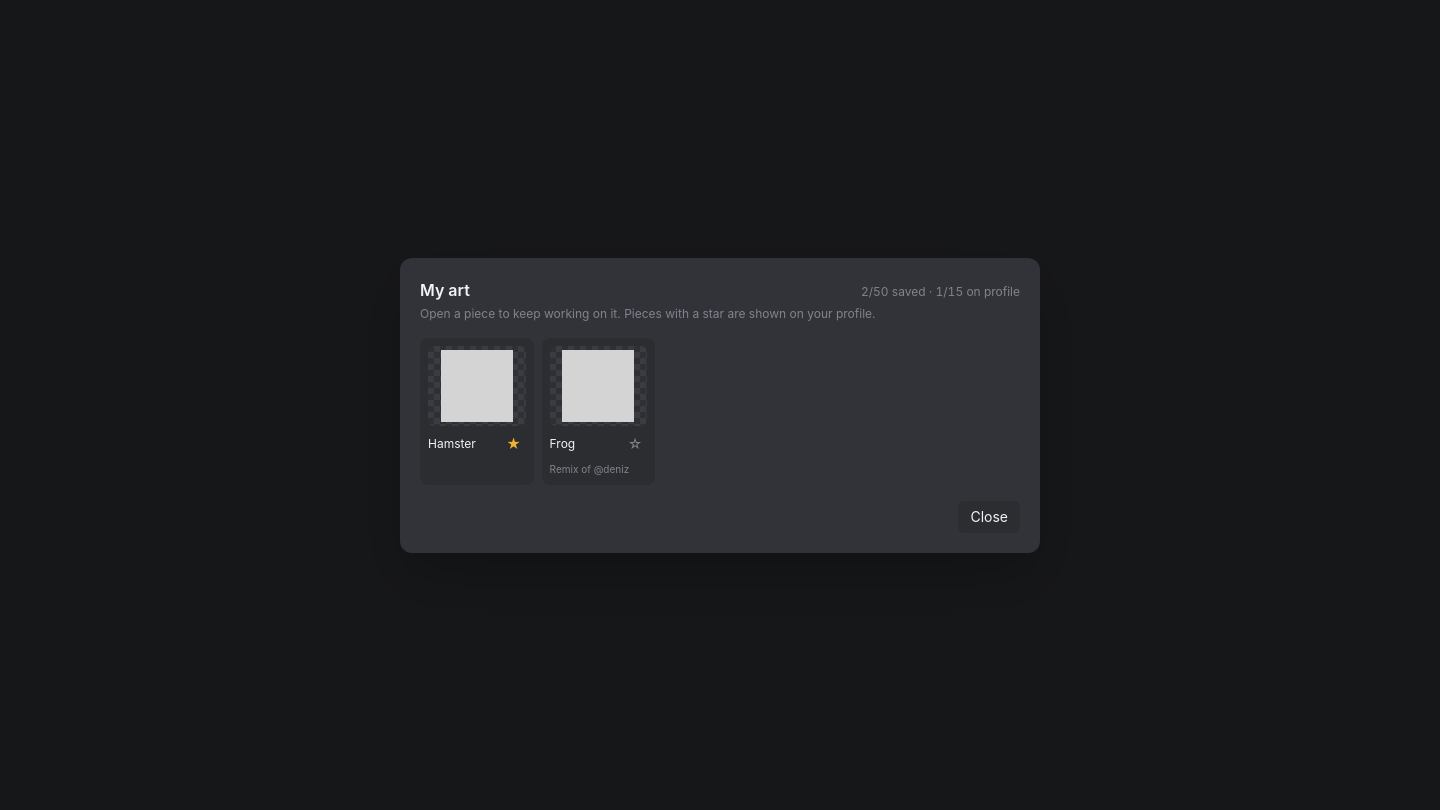
Scenario: GalleryPicker › lists pieces, shows remix credit, and toggles one onto the profile
Expected: the text "Hamster" is shown, x1=428 y1=436 x2=476 y2=450
Expected: the text "Remix of @deniz" is shown, x1=550 y1=462 x2=629 y2=474
Click the button named "Show on profile".
click(635, 444)  # box x1=623 y1=432 x2=647 y2=456
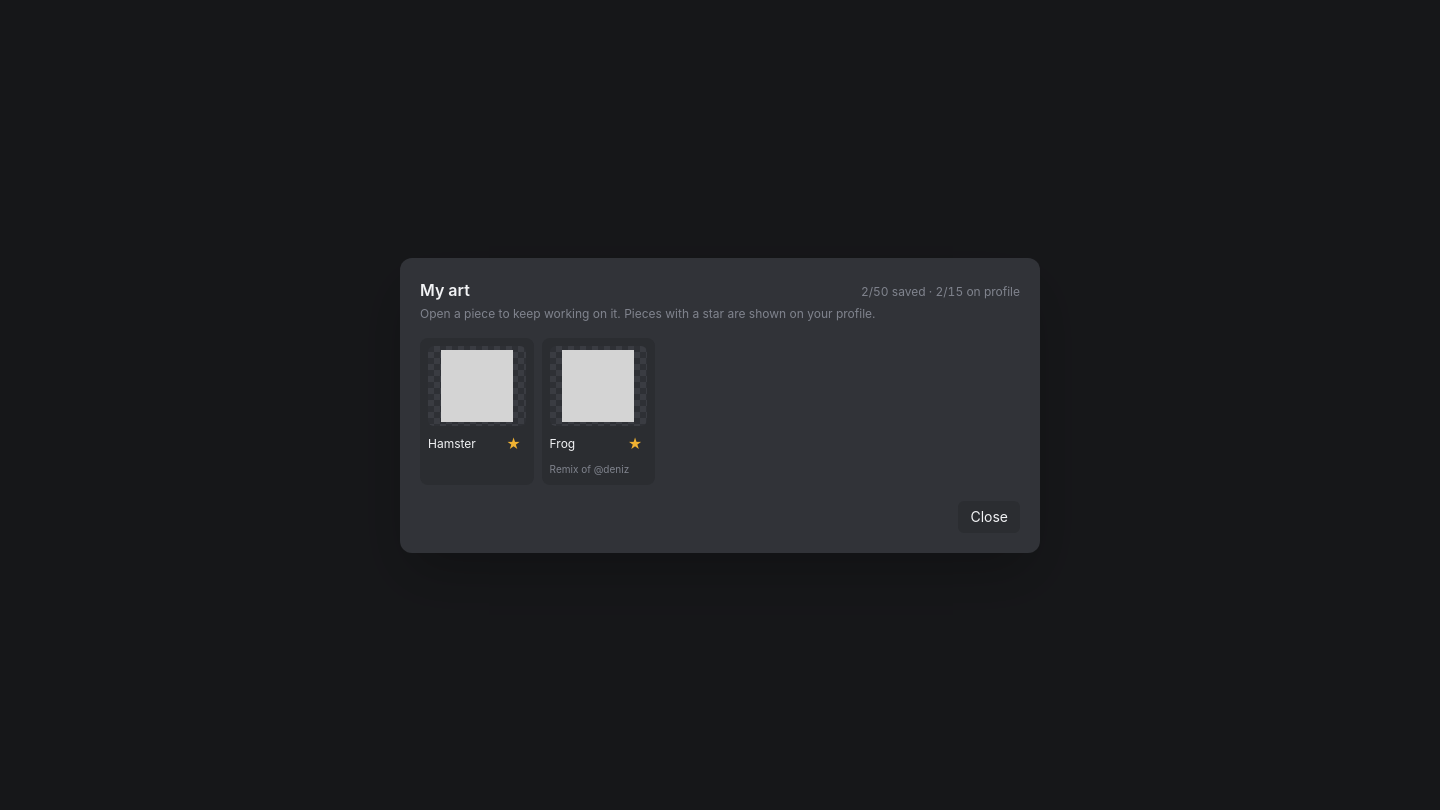
Result: the text "2/50 saved · 2/15 on profile" is shown at x1=861 y1=284 x2=1020 y2=300
